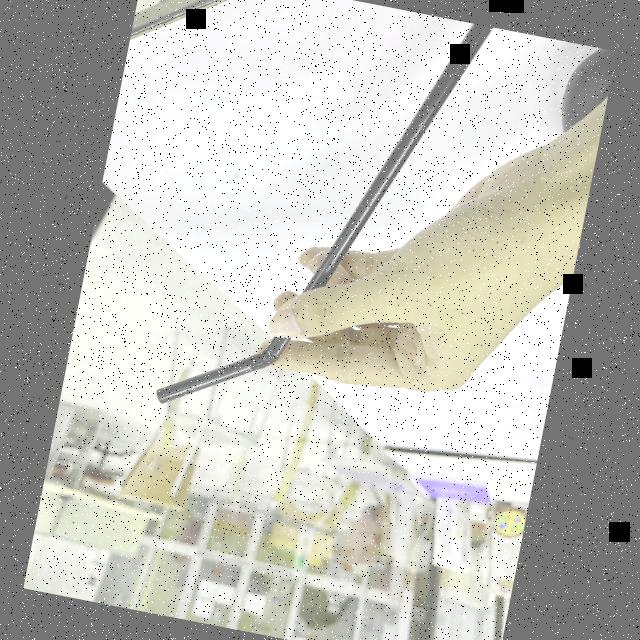straw: (147, 0, 502, 457)
